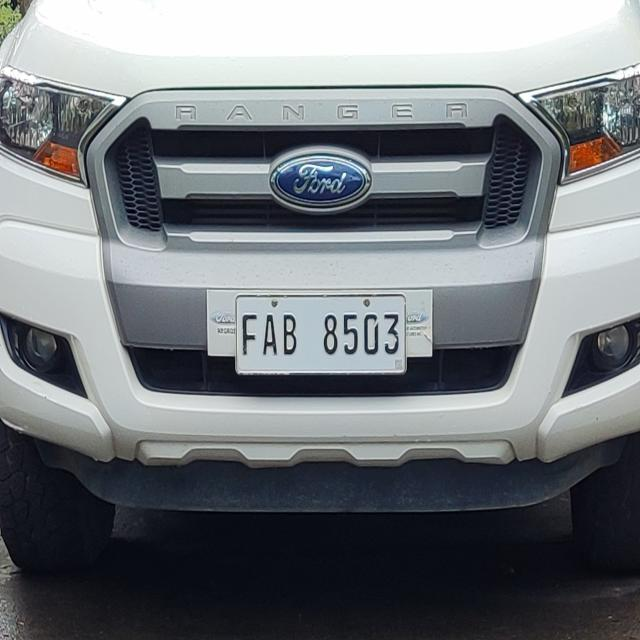LicensePlate: (227, 291, 421, 382)
